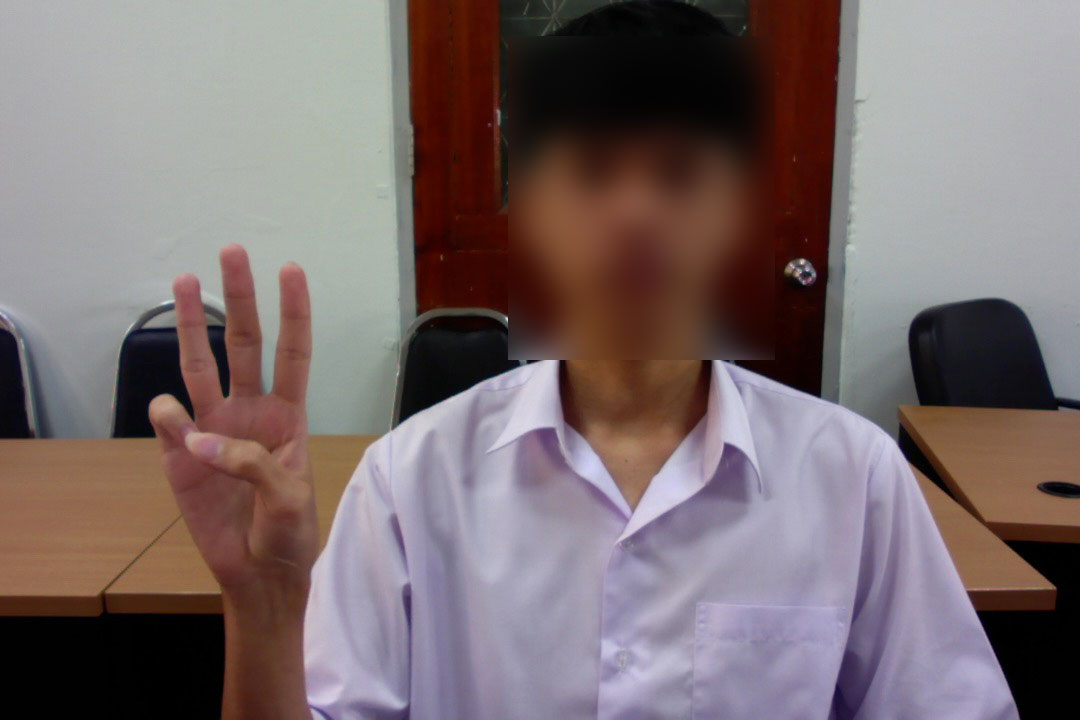wor: (135, 241, 354, 602)
